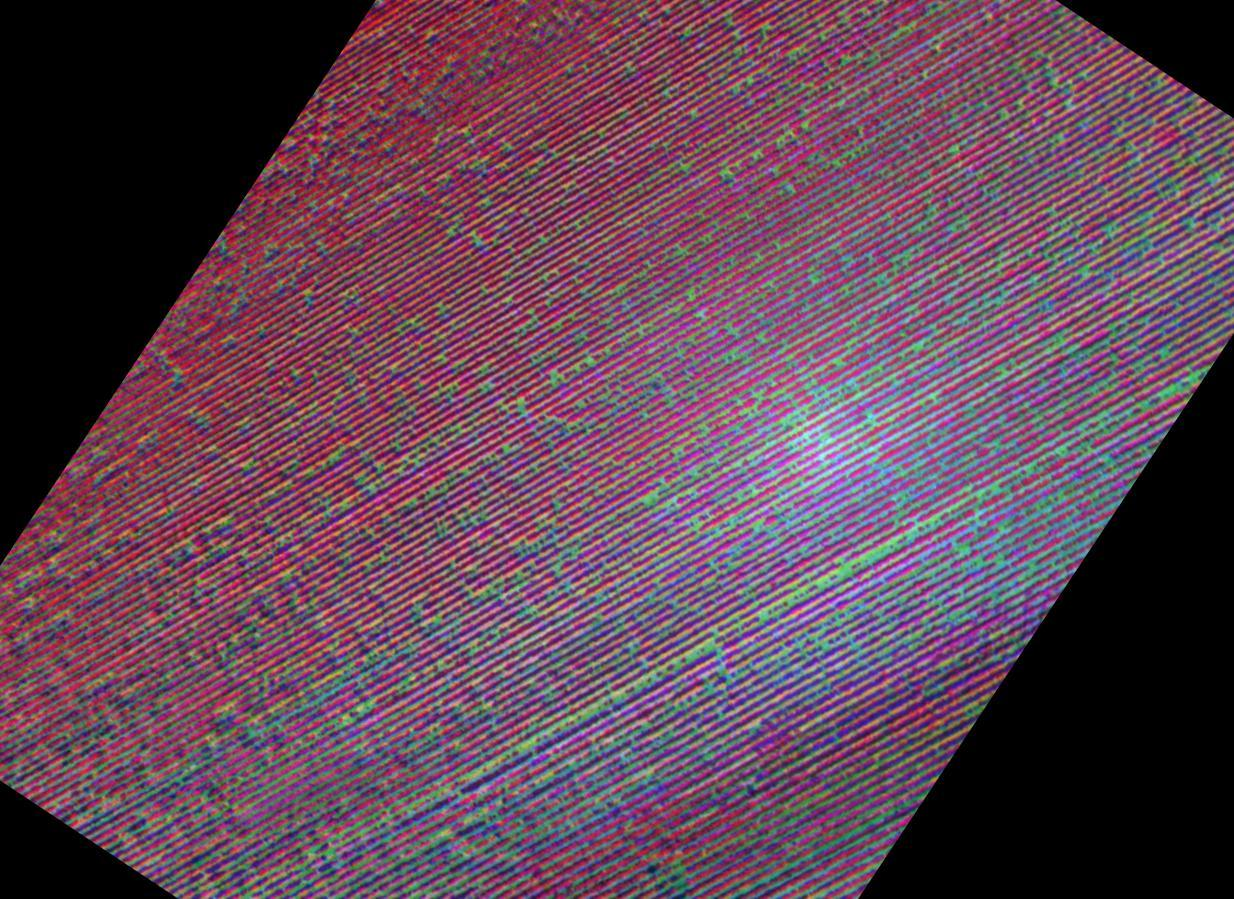dc: (292, 665, 412, 756), (765, 368, 864, 465), (640, 828, 755, 899)
